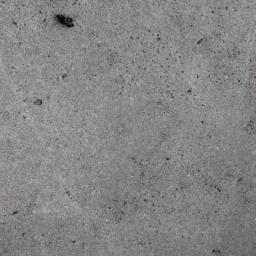FOD: (56, 12, 79, 31)
